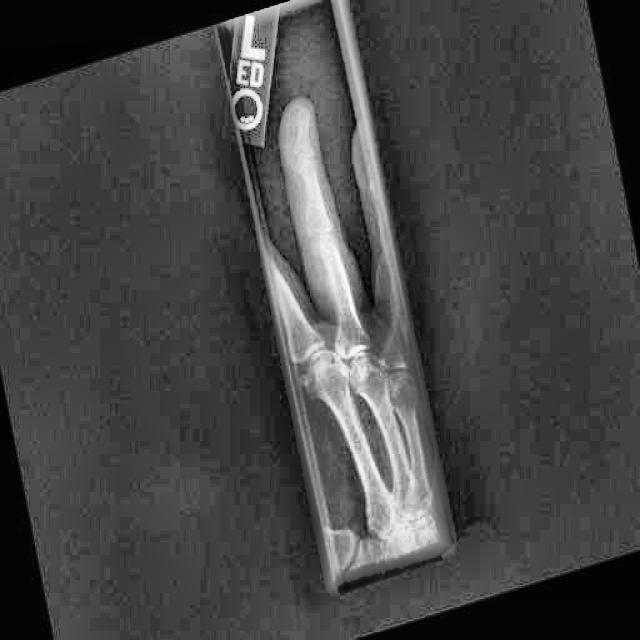fingers positive: (290, 152, 331, 196)
